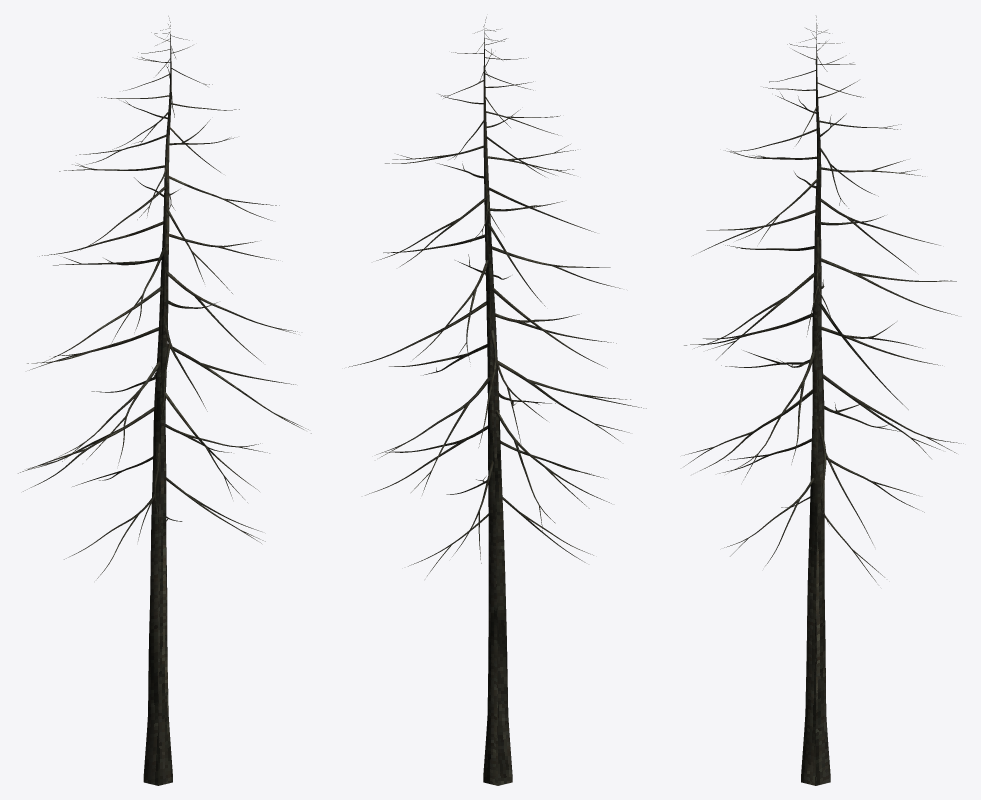
The model's file is Tree.glb.
3 views of the same model, side by side, from view 1: azimuth 30°, elevation 25°; view 2: azimuth 150°, elevation 25°; view 3: azimuth 270°, elevation 25° (orthographic).
Parts seen in each view (by area): view 1: tree; view 2: tree; view 3: tree.
Boxes of the visible parts, <box> form: tree: <box>18,16,311,785</box>; tree: <box>348,17,646,785</box>; tree: <box>684,16,963,785</box>.
Size of the model in its own units: 6.74 by 19.03 by 6.47.
1 material, 1 textured.
